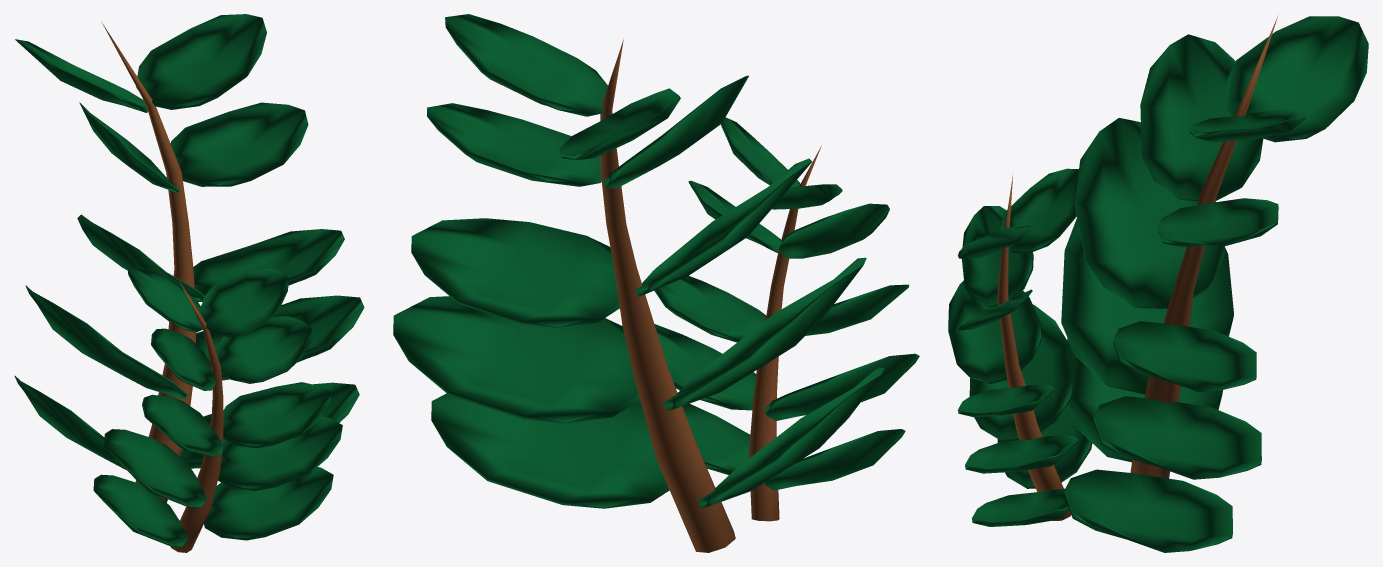
Rendered from Grass_06.fbx.
3 renders of one model, left to right at view 1: azimuth 30°, elevation 25°; view 2: azimuth 150°, elevation 25°; view 3: azimuth 270°, elevation 25°, orthographic. The views are drawn at different scales.
Parts seen in each view (by area): view 1: grass_06; view 2: grass_06; view 3: grass_06.
Part boxes in pixels (box(x1,y1,x2,y2)): grass_06: box(14, 14, 364, 552); grass_06: box(393, 14, 919, 552); grass_06: box(948, 16, 1368, 552).
Size of the model in its own units: 116 by 138 by 103.
Materials: 1 (1 with a texture image).
